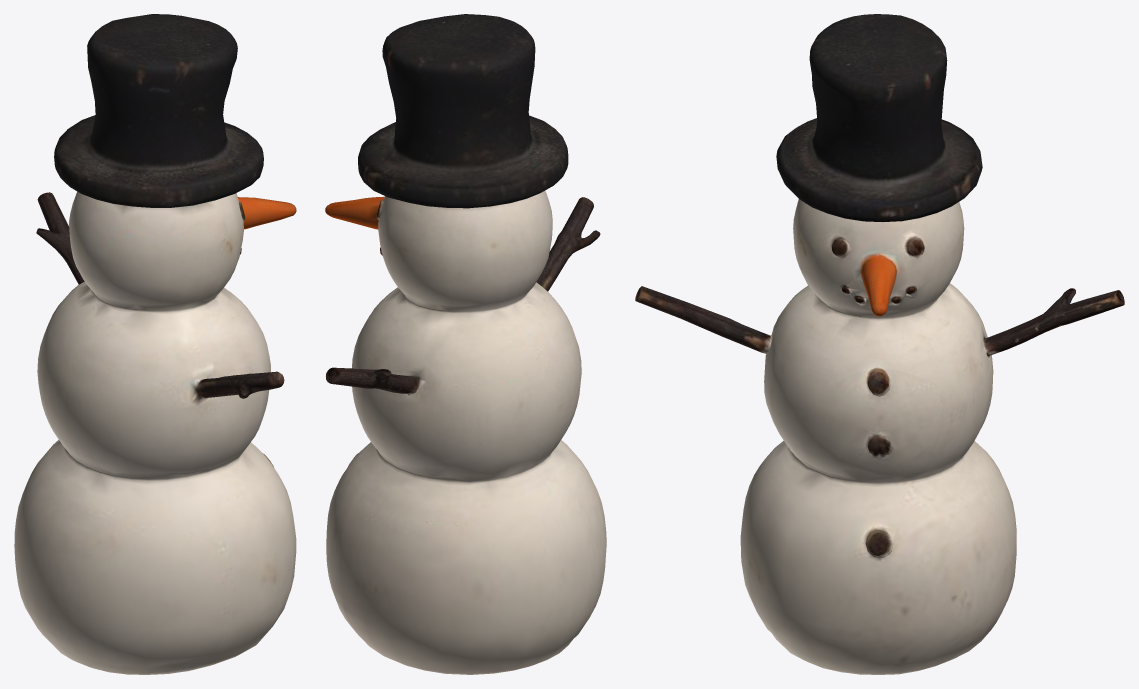
File: snowman.glb
The picture shows the model from 3 angles, left to right: view 1: azimuth 30°, elevation 25°; view 2: azimuth 150°, elevation 25°; view 3: azimuth 270°, elevation 25°; orthographic projection.
Visible parts, largest first — view 1: tripo_node_29a2362e-09ce-49a4-a9f6-8df8f881be7c; view 2: tripo_node_29a2362e-09ce-49a4-a9f6-8df8f881be7c; view 3: tripo_node_29a2362e-09ce-49a4-a9f6-8df8f881be7c.
Part boxes in pixels (bbox=[...]): tripo_node_29a2362e-09ce-49a4-a9f6-8df8f881be7c: bbox=[14, 14, 296, 674]; tripo_node_29a2362e-09ce-49a4-a9f6-8df8f881be7c: bbox=[325, 14, 606, 674]; tripo_node_29a2362e-09ce-49a4-a9f6-8df8f881be7c: bbox=[635, 14, 1124, 674].
Bounding box in the file's own units: 0.4551 × 0.9995 × 0.7417.
Materials: 1 (1 with a texture image).
